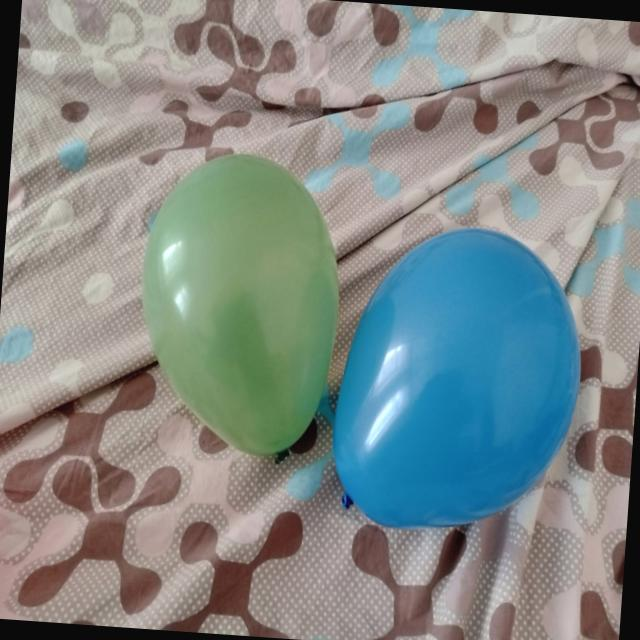balloon: (333, 228, 580, 528), (142, 153, 339, 454)
